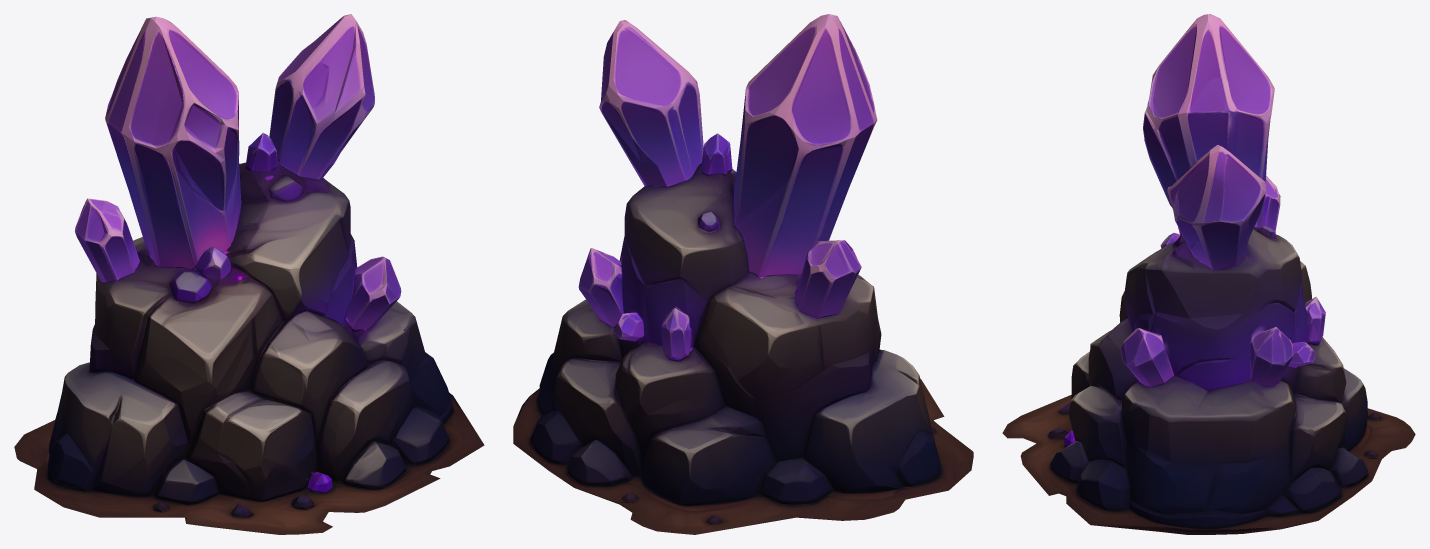
The model's file is SM_Ore29.fbx.
3 renders of one model, left to right at view 1: azimuth 30°, elevation 25°; view 2: azimuth 150°, elevation 25°; view 3: azimuth 270°, elevation 25°, orthographic. The views are drawn at different scales.
Visible parts, largest first — view 1: Ore29; view 2: Ore29; view 3: Ore29.
Part boxes in pixels (box(x1,y1,x2,y2)): Ore29: box(14, 14, 484, 534); Ore29: box(513, 14, 973, 534); Ore29: box(1002, 14, 1415, 534).
Size of the model in its own units: 132 by 138 by 130.
Materials: 1 (1 with a texture image).
